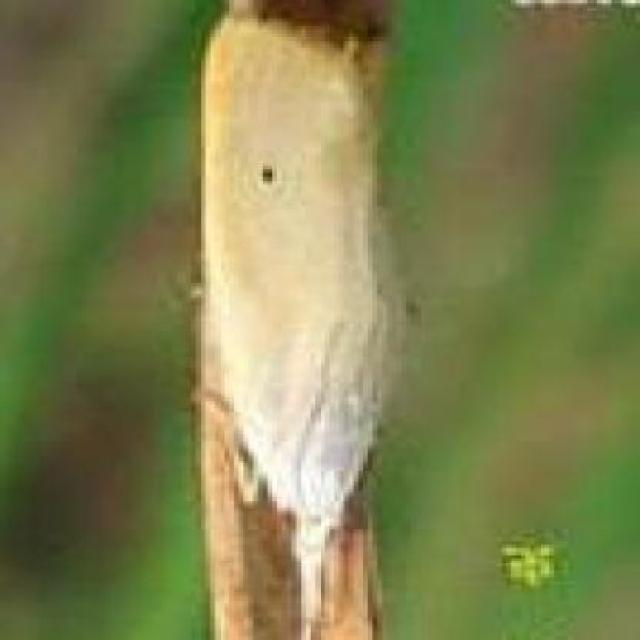stem-borer: (198, 0, 398, 640)
